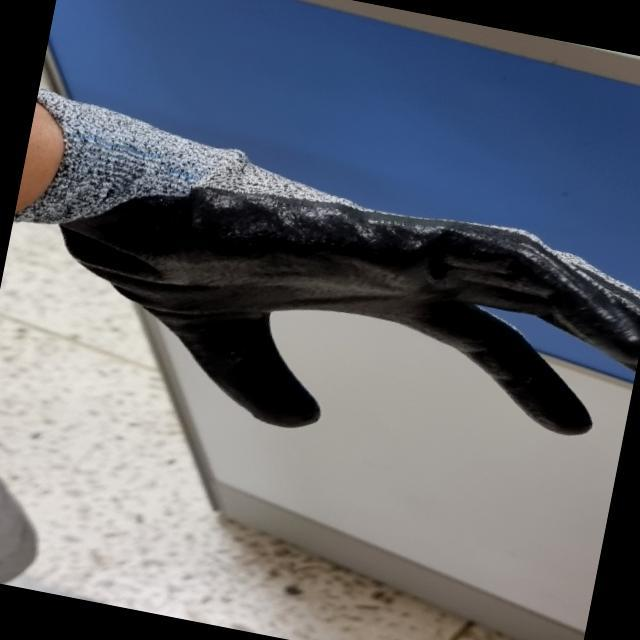Gloves: (45, 125, 640, 429)
